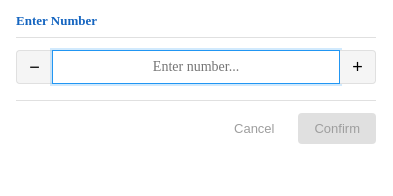
it: NumberInputWidget › should show error for invalid number
Type "abc" into the field with placeholder "Enter number..." at (196, 67), box [52,50,340,84]
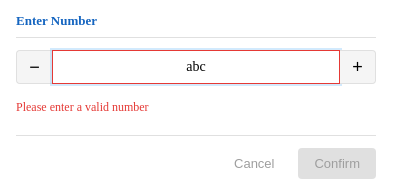
Check: the text "Please enter a valid number" is shown, box [16,100,149,114]
